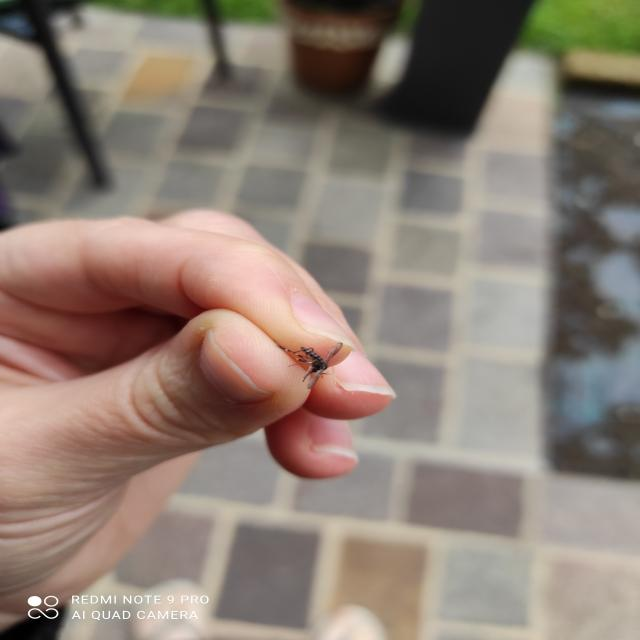albopictus: (275, 338, 343, 389)
